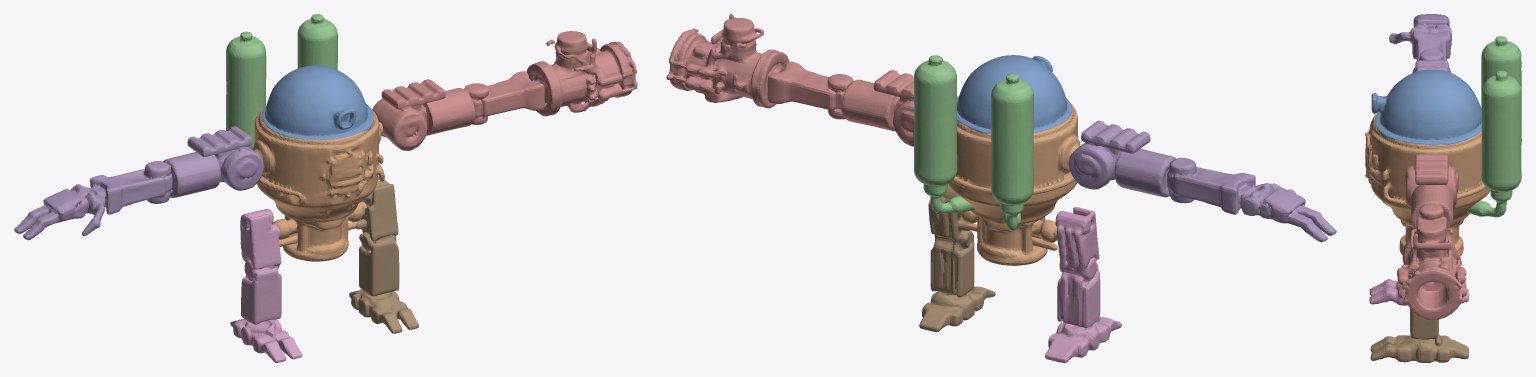
File: robot.glb
The picture shows the model from 3 angles, left to right: view 1: azimuth 30°, elevation 25°; view 2: azimuth 150°, elevation 25°; view 3: azimuth 270°, elevation 25°; orthographic projection. The views are drawn at different scales.
Parts seen in each view (by area): view 1: part_3_left_arm, part_1_torso_body, part_4_right_arm, part_0_head_module, part_6_right leg, part_5_left leg, part_2_back_tanks; view 2: part_3_left_arm, part_2_back_tanks, part_4_right_arm, part_1_torso_body, part_6_right leg, part_5_left leg, part_0_head_module; view 3: part_3_left_arm, part_2_back_tanks, part_0_head_module, part_1_torso_body, part_5_left leg, part_4_right_arm, part_6_right leg.
Boxes of the visible parts, box(x1,y1,x2,y2) form: part_3_left_arm: box(372, 31, 637, 150); part_1_torso_body: box(253, 106, 384, 261); part_4_right_arm: box(14, 126, 264, 240); part_0_head_module: box(261, 65, 373, 139); part_6_right leg: box(230, 209, 302, 362); part_5_left leg: box(349, 180, 418, 333); part_2_back_tanks: box(226, 14, 337, 149); part_3_left_arm: box(666, 14, 914, 146); part_2_back_tanks: box(914, 55, 1033, 230); part_4_right_arm: box(1068, 120, 1336, 242); part_1_torso_body: box(948, 98, 1080, 265); part_6_right leg: box(1045, 207, 1121, 362); part_5_left leg: box(919, 184, 995, 331); part_0_head_module: box(957, 55, 1072, 133); part_3_left_arm: box(1396, 154, 1466, 319); part_2_back_tanks: box(1467, 36, 1521, 217); part_0_head_module: box(1371, 69, 1481, 145); part_1_torso_body: box(1365, 112, 1490, 255); part_5_left leg: box(1370, 308, 1468, 362); part_4_right_arm: box(1389, 14, 1451, 73); part_6_right leg: box(1369, 279, 1468, 305).
Bounding box in the file's own units: 1.91 × 0.8306 × 0.4322.
